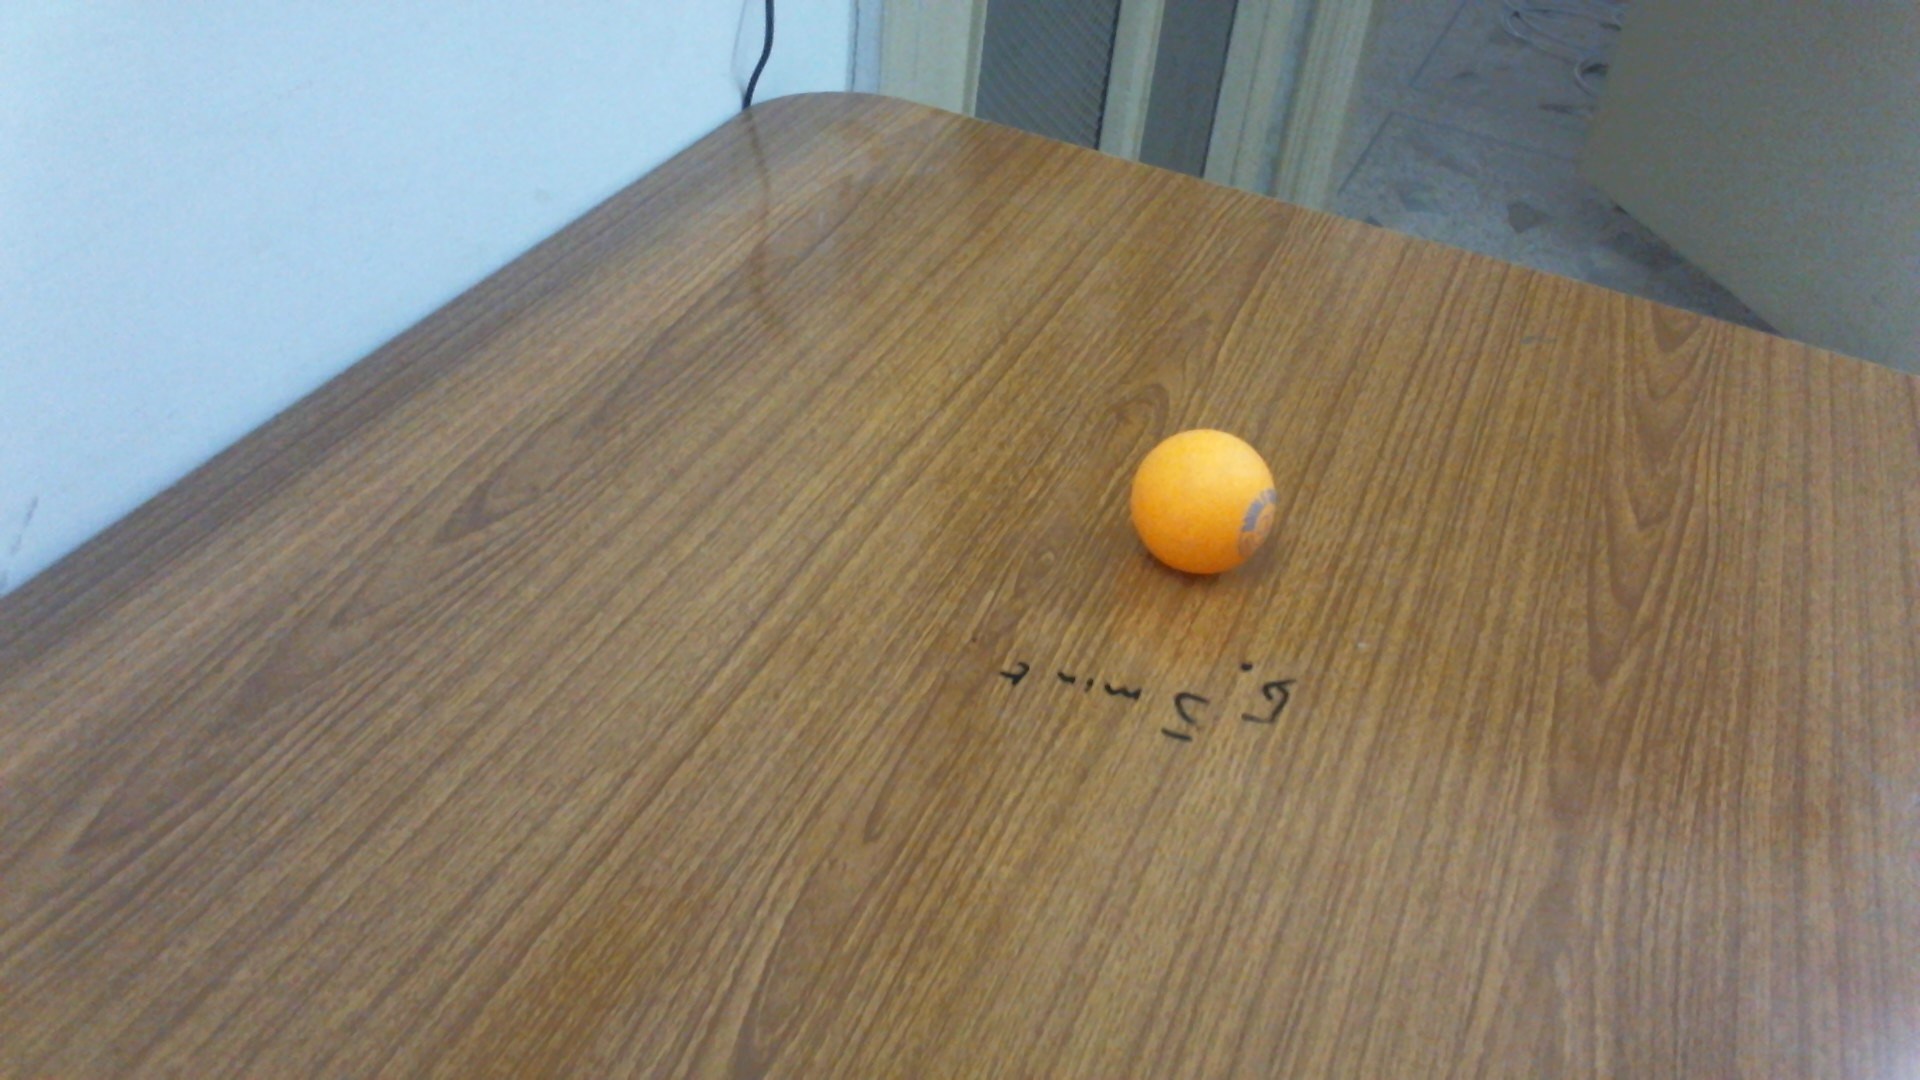ball: (1129, 427, 1276, 579)
